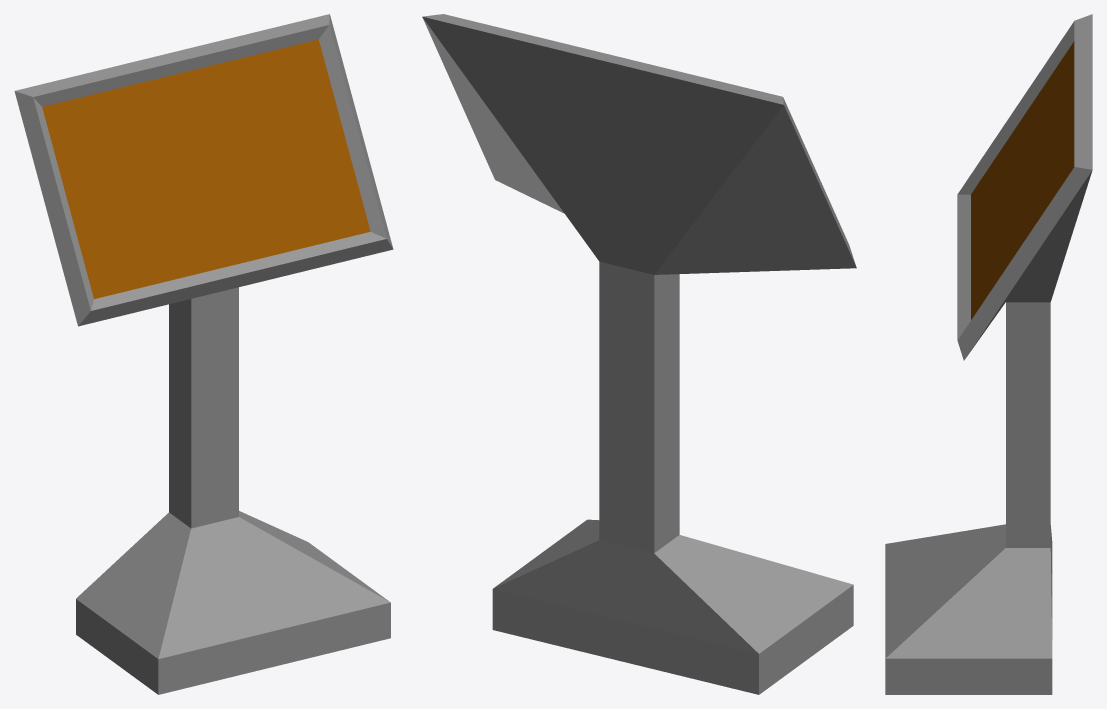
The model's file is panel.fbx.
3 views of the same model, side by side, from view 1: azimuth 30°, elevation 25°; view 2: azimuth 150°, elevation 25°; view 3: azimuth 270°, elevation 25° (orthographic). The views are drawn at different scales.
Visible parts, largest first — view 1: panel de control; view 2: panel de control; view 3: panel de control.
Boxes of the visible parts, box(x1,y1,x2,y2) form: panel de control: box(14, 14, 393, 694); panel de control: box(422, 14, 856, 694); panel de control: box(885, 14, 1092, 694).
Size of the model in its own units: 32.49 by 53.07 by 18.28.
